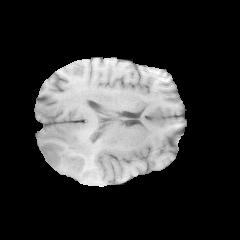glioma: (41, 127, 102, 177)
